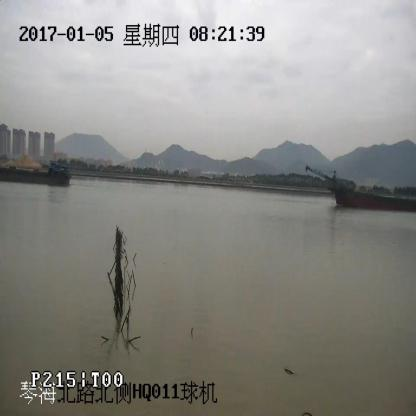Bulk Carrier: (305, 168, 416, 213), (0, 162, 72, 186)
